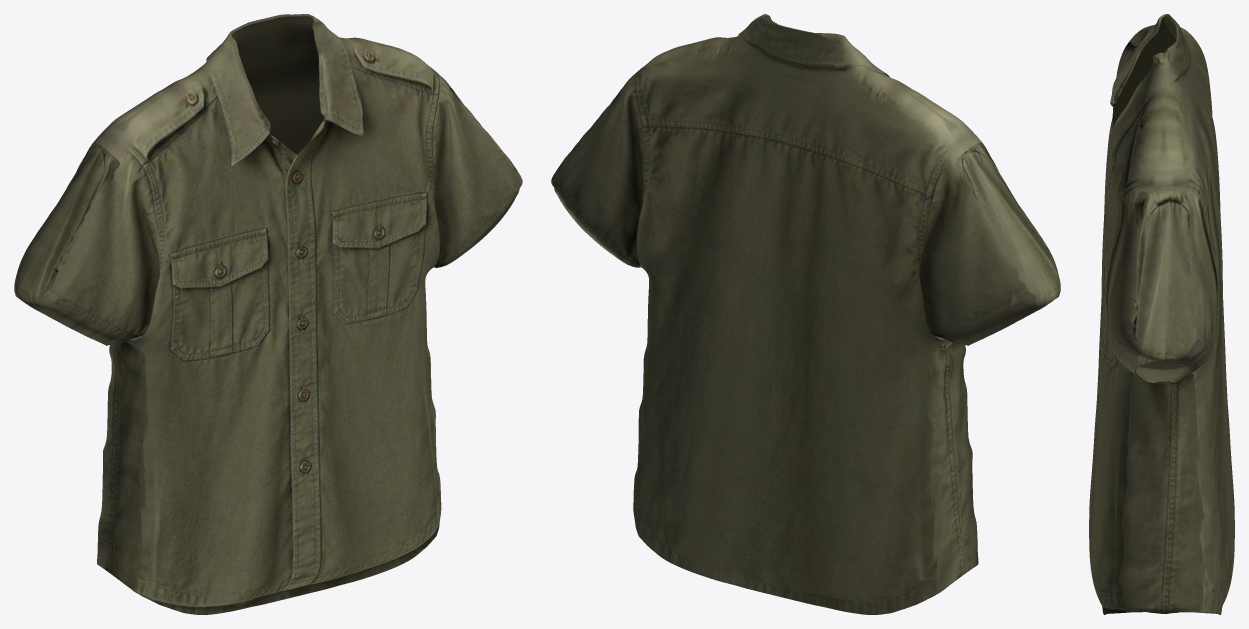
The model's file is military_green.glb.
3 renders of one model, left to right at view 1: azimuth 30°, elevation 25°; view 2: azimuth 150°, elevation 25°; view 3: azimuth 270°, elevation 25°, orthographic. The views are drawn at different scales.
Parts seen in each view (by area): view 1: body; view 2: body; view 3: body.
Part boxes in pixels (x1,y1,x2,y2): body: (14, 14, 522, 614); body: (551, 14, 1060, 614); body: (1089, 14, 1234, 614).
Bounding box in the file's own units: 0.8572 × 0.9111 × 0.2209.
9 materials, 7 textured.
